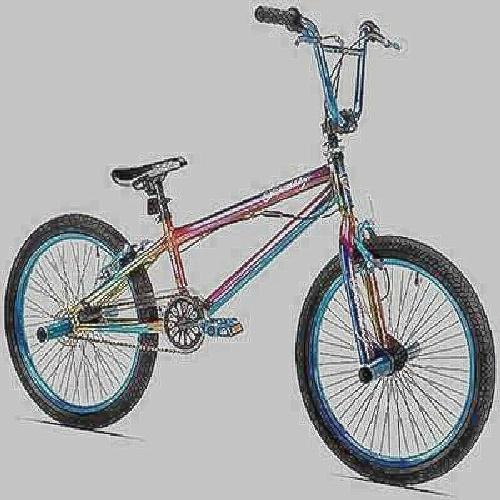bicycle: (20, 17, 482, 467)
